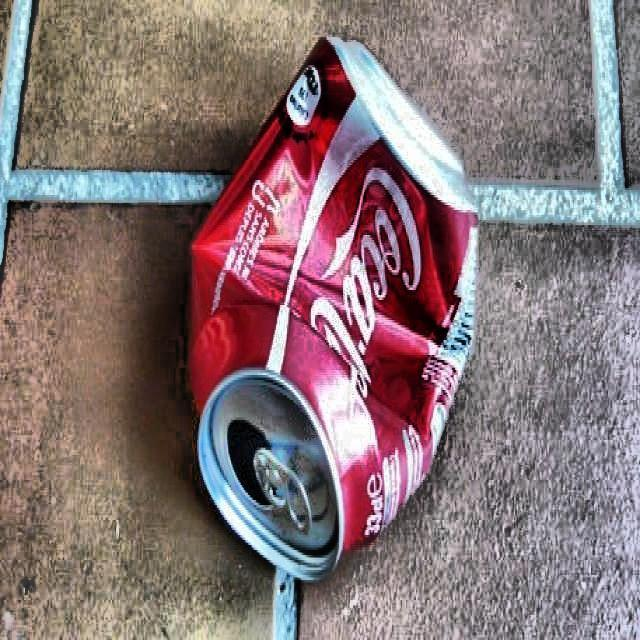metal: (190, 38, 480, 585)
